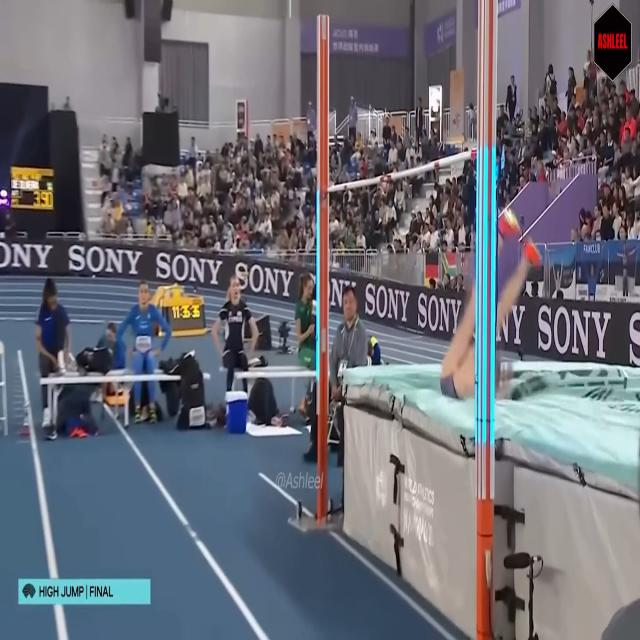land: (438, 205, 544, 402)
